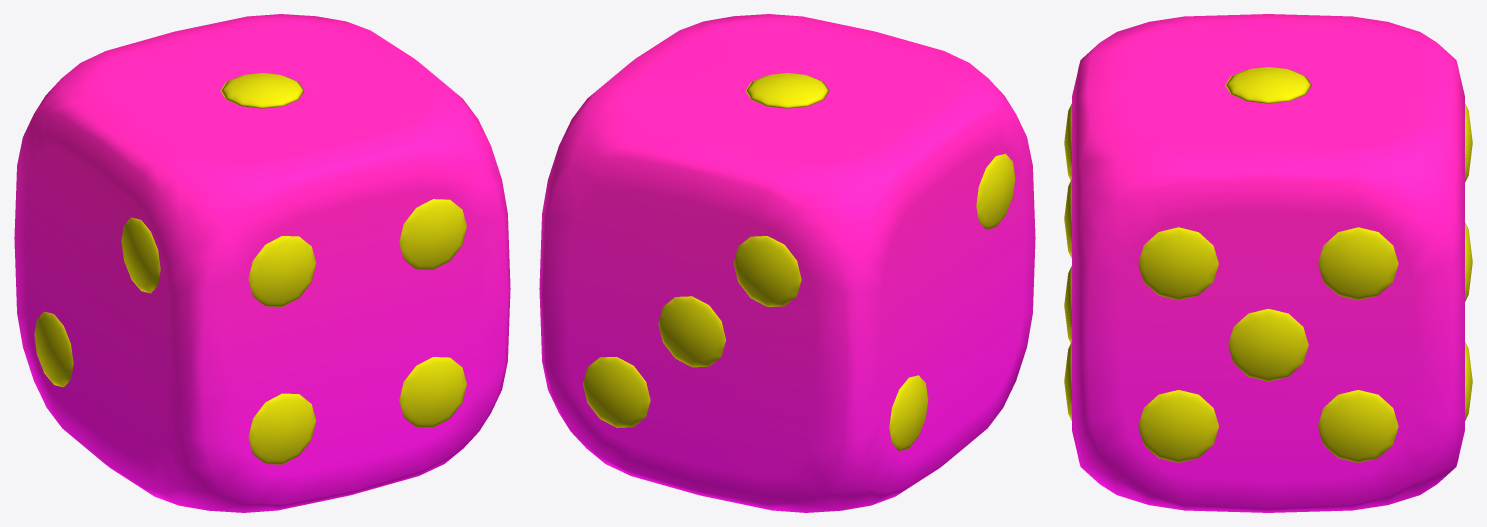
Rendered from Dice_02.glb.
3 views of the same model, side by side, from view 1: azimuth 30°, elevation 25°; view 2: azimuth 150°, elevation 25°; view 3: azimuth 270°, elevation 25° (orthographic). The views are drawn at different scales.
Visible parts, largest first — view 1: Dice_02; view 2: Dice_02; view 3: Dice_02.
Boxes of the visible parts, x1,y1,x2,y2 form: Dice_02: (14, 14, 510, 512); Dice_02: (539, 14, 1035, 512); Dice_02: (1064, 14, 1472, 512).
Size of the model in its own units: 0.9993 by 0.9993 by 0.9993.
Materials: 2 (2 with a texture image).
